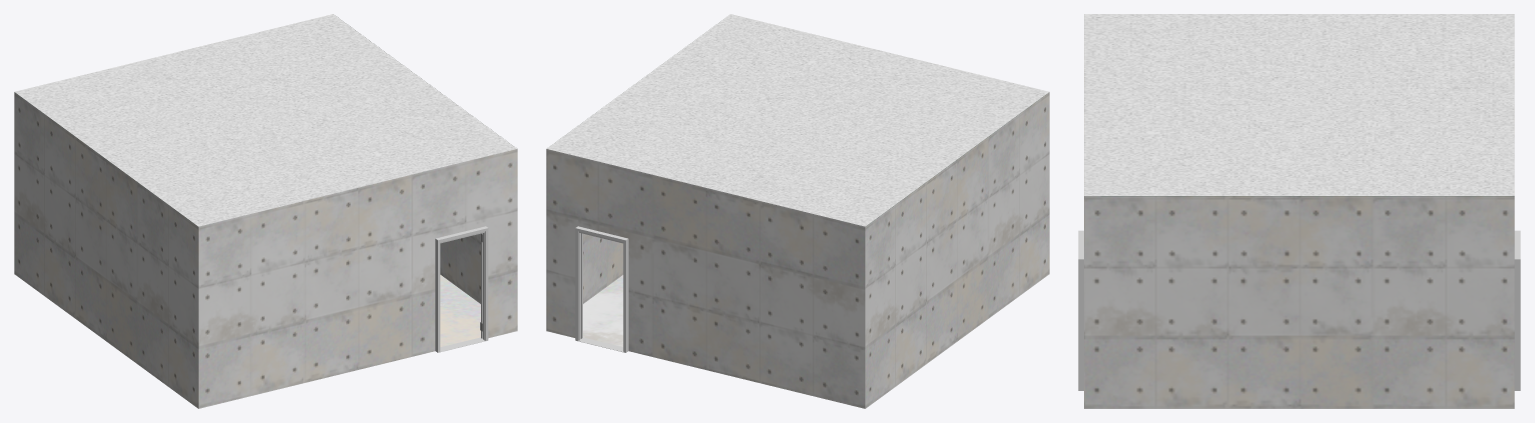
Rendered from Room0602.fbx.
The picture shows the model from 3 angles, left to right: view 1: azimuth 30°, elevation 25°; view 2: azimuth 150°, elevation 25°; view 3: azimuth 270°, elevation 25°; orthographic projection. The views are drawn at different scales.
Parts seen in each view (by area): view 1: pCube33, polySurface33; view 2: pCube33, polySurface36; view 3: pCube33, polySurface36, polySurface33.
Boxes of the visible parts, x1,y1,x2,y2 form: pCube33: (14,14,517,408); polySurface33: (435,226,488,352); pCube33: (546,14,1049,408); polySurface36: (575,226,628,352); pCube33: (1084,14,1514,408); polySurface36: (1514,230,1520,390); polySurface33: (1078,230,1083,390).
Bounding box in the file's own units: 649 × 354 × 667.
3 materials, 1 textured.
